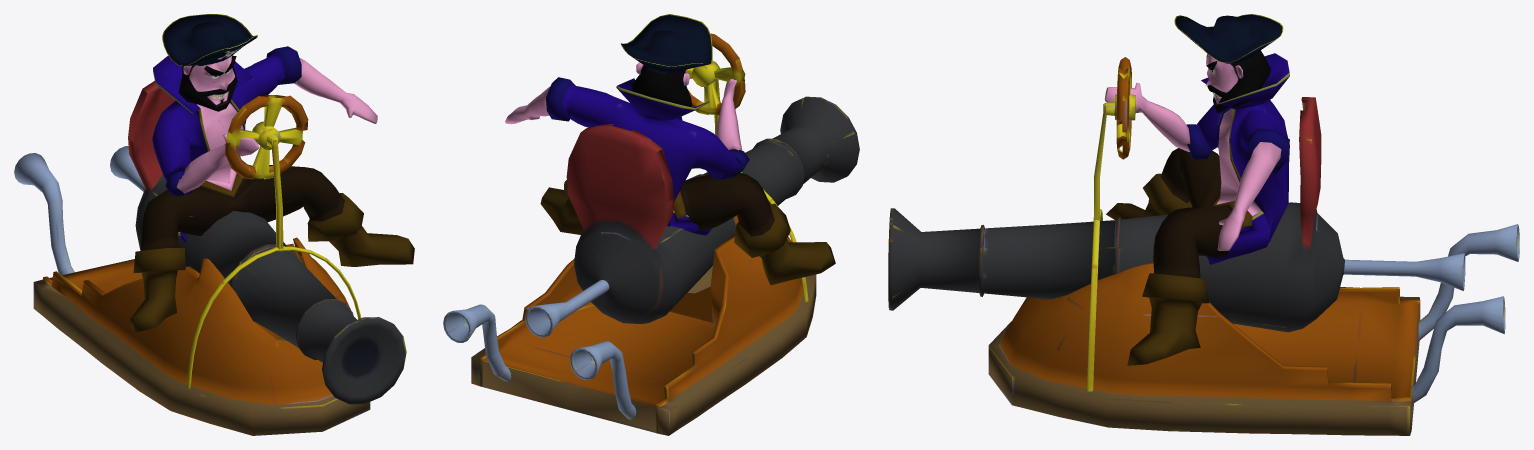
Rendered from PirataHabilidad_000173.obj.
3 views of the same model, side by side, from view 1: azimuth 30°, elevation 25°; view 2: azimuth 150°, elevation 25°; view 3: azimuth 270°, elevation 25° (orthographic). The views are drawn at different scales.
Parts seen in each view (by area): view 1: carro_pirata_carro_pirata.001, Pirata_PirataH; view 2: carro_pirata_carro_pirata.001, Pirata_PirataH; view 3: carro_pirata_carro_pirata.001, Pirata_PirataH.
Boxes of the visible parts, x1,y1,x2,y2 form: carro_pirata_carro_pirata.001: (14, 81, 406, 435); Pirata_PirataH: (130, 14, 414, 332); carro_pirata_carro_pirata.001: (443, 33, 859, 435); Pirata_PirataH: (505, 14, 835, 285); carro_pirata_carro_pirata.001: (888, 57, 1519, 435); Pirata_PirataH: (1104, 14, 1289, 365).
Bounding box in the file's own units: 6.97 × 7.47 × 12.1.
